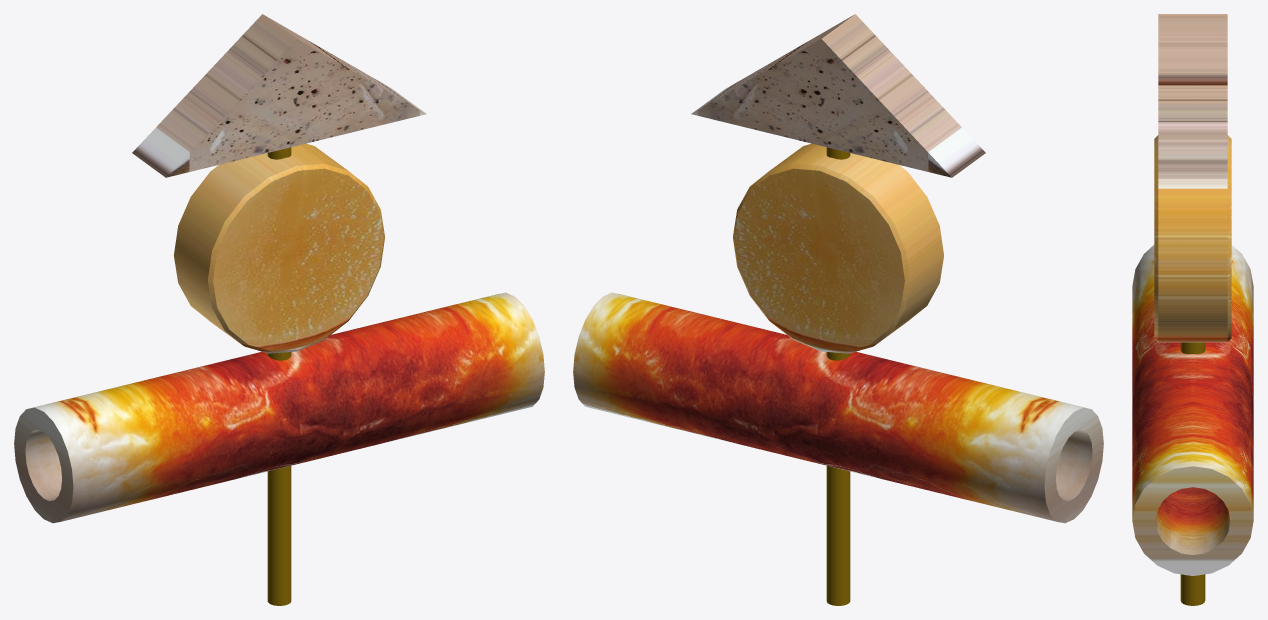
The model's file is Oden2.fbx.
The picture shows the model from 3 angles, left to right: view 1: azimuth 30°, elevation 25°; view 2: azimuth 150°, elevation 25°; view 3: azimuth 270°, elevation 25°; orthographic projection. The views are drawn at different scales.
Parts seen in each view (by area): view 1: pCylinder6; view 2: pCylinder6; view 3: pCylinder6.
Part boxes in pixels (bbox=[...]): pCylinder6: bbox=[14, 14, 544, 605]; pCylinder6: bbox=[573, 14, 1103, 605]; pCylinder6: bbox=[1132, 14, 1253, 605].
Bounding box in the file's own units: 5.32 × 6.19 × 1.16.
Materials: 2 (1 with a texture image).
